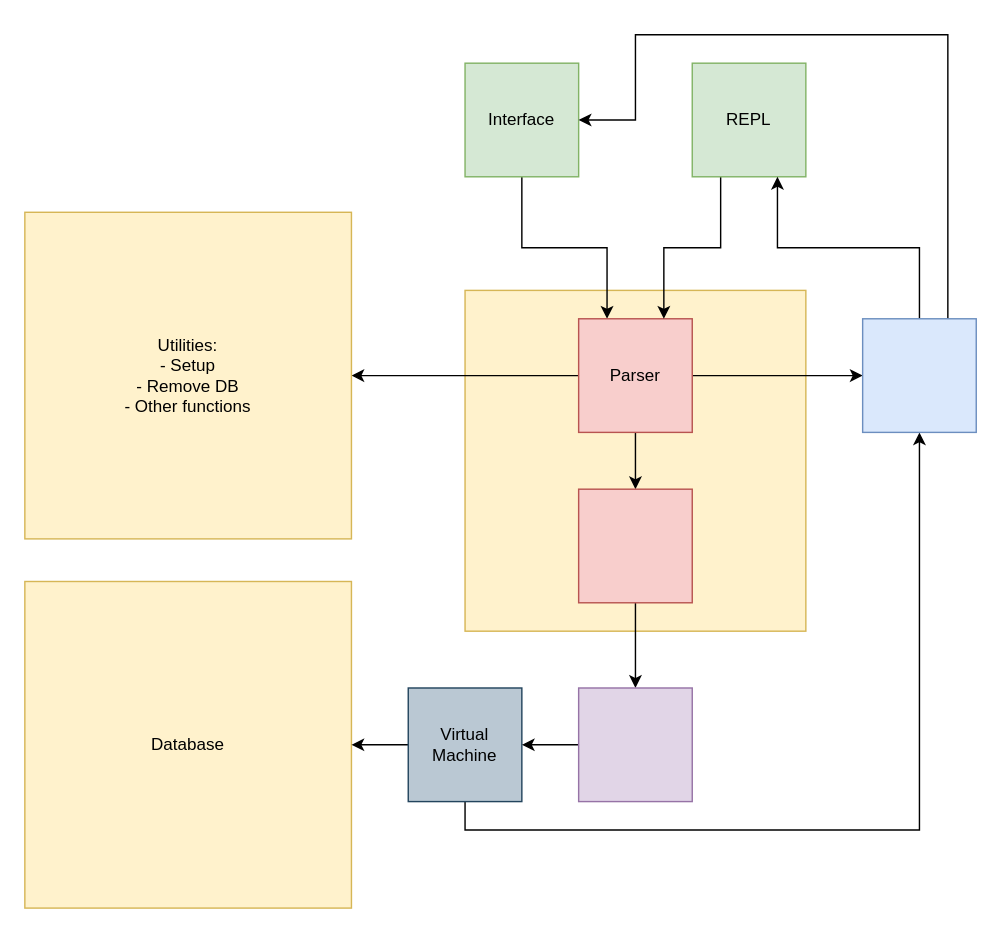
This 1001x933 diagram has some shape labels left out. The shapes that lost their labels are listed below. From the top down, each one's centre as x and y in pixels, then its label:
At [918,374]: "Send back process".
At [634,545]: "Compiler".
At [634,744]: "Queue".
